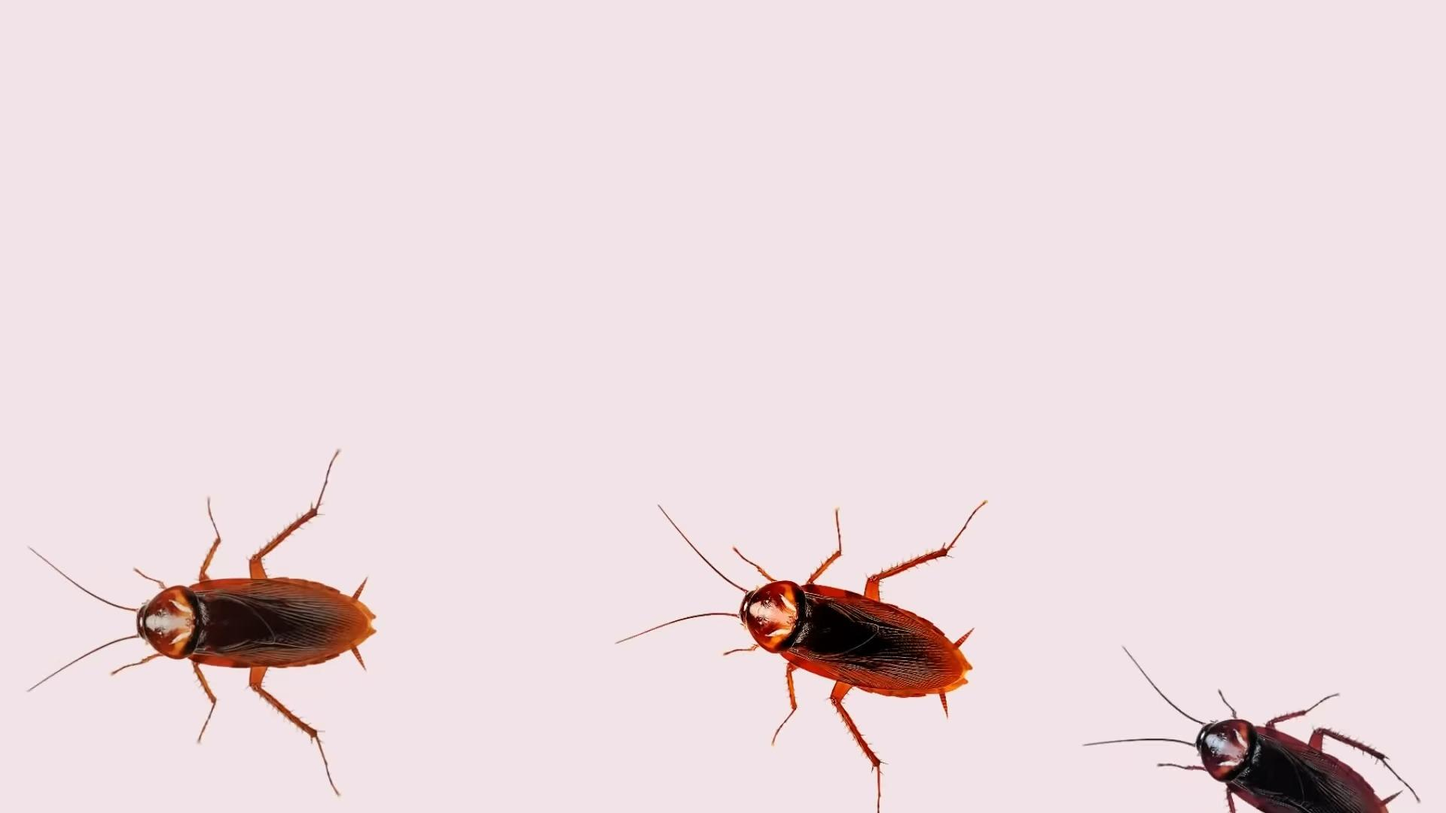cockroach: (637, 510, 972, 735), (42, 546, 379, 711), (1136, 668, 1417, 813)
